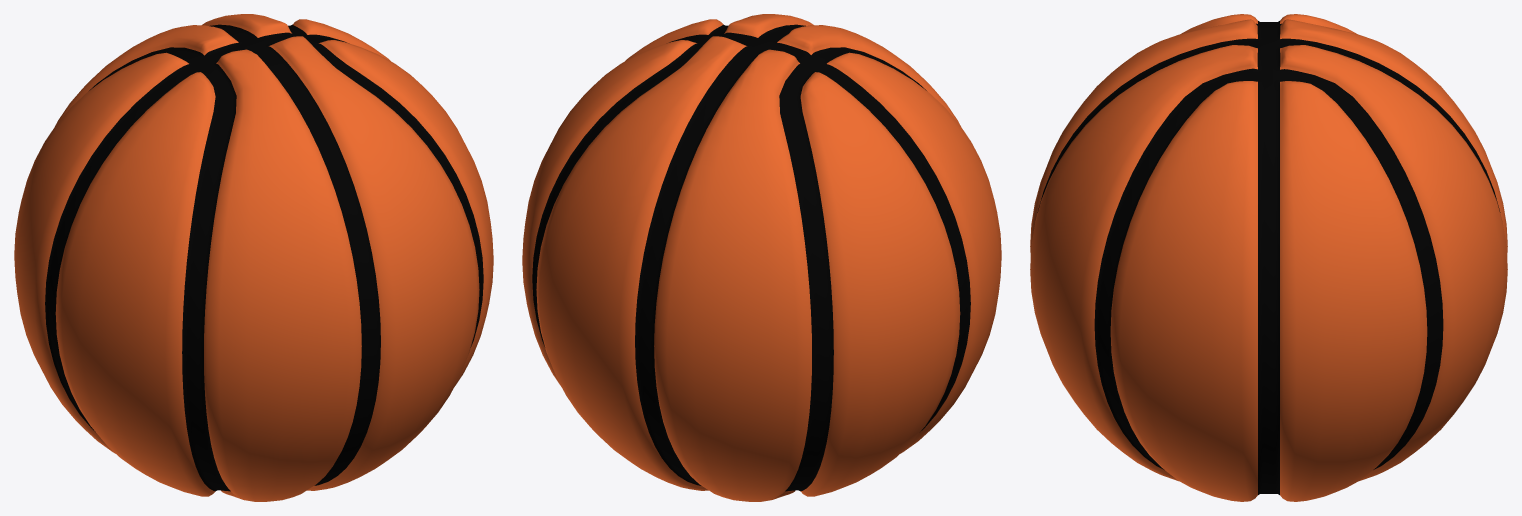
File: Basket Ball 2.0.fbx
The picture shows the model from 3 angles, left to right: view 1: azimuth 30°, elevation 25°; view 2: azimuth 150°, elevation 25°; view 3: azimuth 270°, elevation 25°; orthographic projection.
Visible parts, largest first — view 1: Sphere; view 2: Sphere; view 3: Sphere.
Boxes of the visible parts, x1,y1,x2,y2 form: Sphere: [14, 14, 493, 501]; Sphere: [522, 14, 1001, 501]; Sphere: [1030, 14, 1507, 501].
Size of the model in its own units: 9647 by 9842 by 9647.
